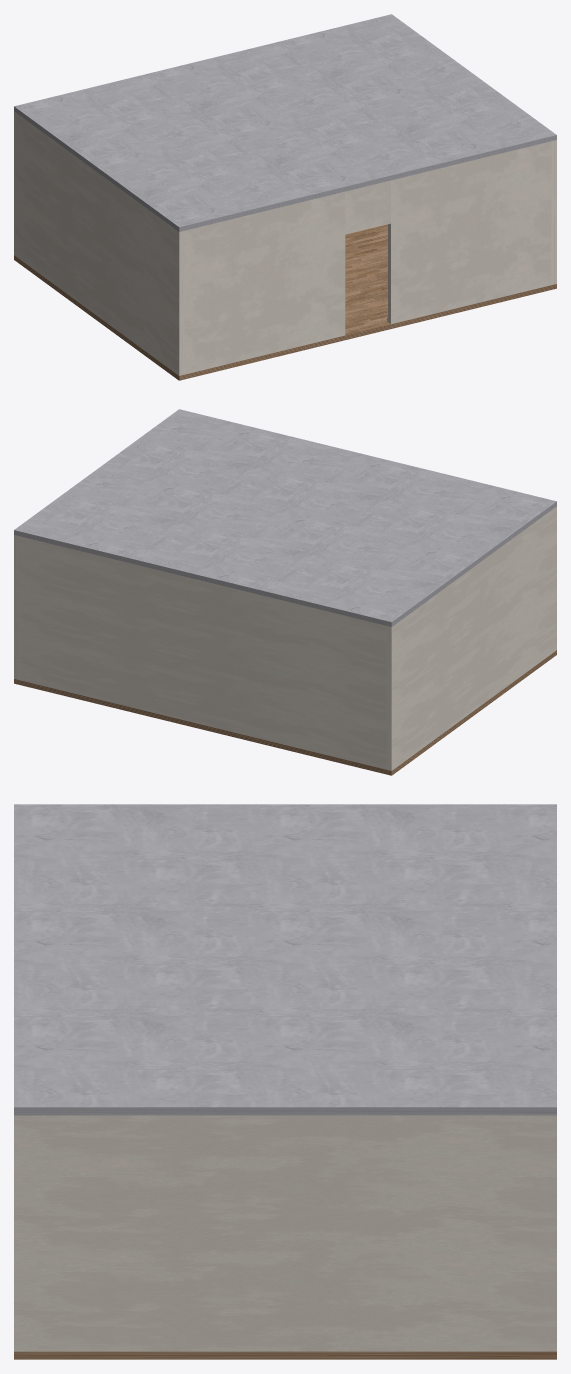
File: room_base_8x6.glb
3 renders of one model, top to bottom at view 1: azimuth 30°, elevation 25°; view 2: azimuth 150°, elevation 25°; view 3: azimuth 270°, elevation 25°, orthographic. The views are drawn at different scales.
Parts seen in each view (by area): view 1: Walls, Ceiling, Floor; view 2: Walls, Ceiling, Floor; view 3: Ceiling, Walls, Floor.
Part boxes in pixels (x1,y1,x2,y2): Walls: (14, 111, 556, 375); Ceiling: (14, 14, 556, 231); Floor: (14, 224, 556, 380); Walls: (14, 506, 556, 770); Ceiling: (14, 409, 556, 626); Floor: (14, 650, 556, 775); Ceiling: (14, 804, 556, 1115); Walls: (14, 1115, 556, 1351); Floor: (14, 1351, 556, 1359).
Size of the model in its own units: 8.24 by 3.2 by 6.24.
Materials: 4 (4 with a texture image).
